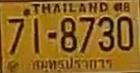0: (116, 15, 133, 50)
1: (33, 18, 38, 52)
3: (97, 16, 113, 51)
7: (79, 16, 94, 52), (8, 18, 23, 54)
8: (60, 17, 76, 51)
SPK: (30, 56, 117, 73)
